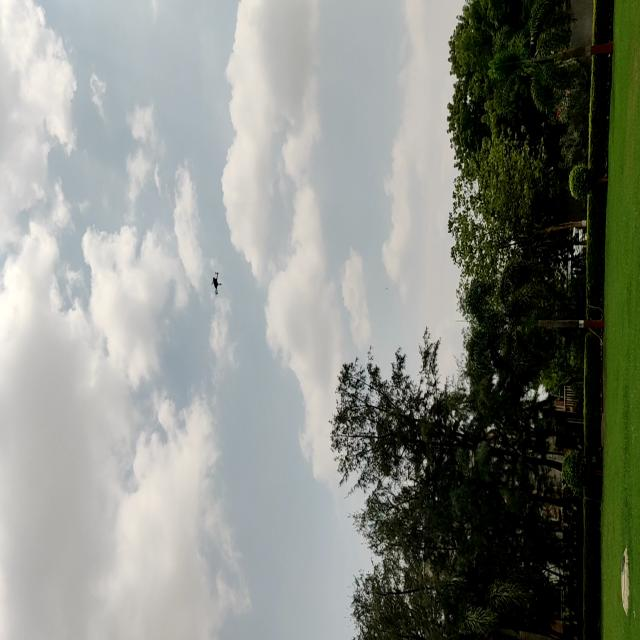drone: (206, 265, 224, 307)
